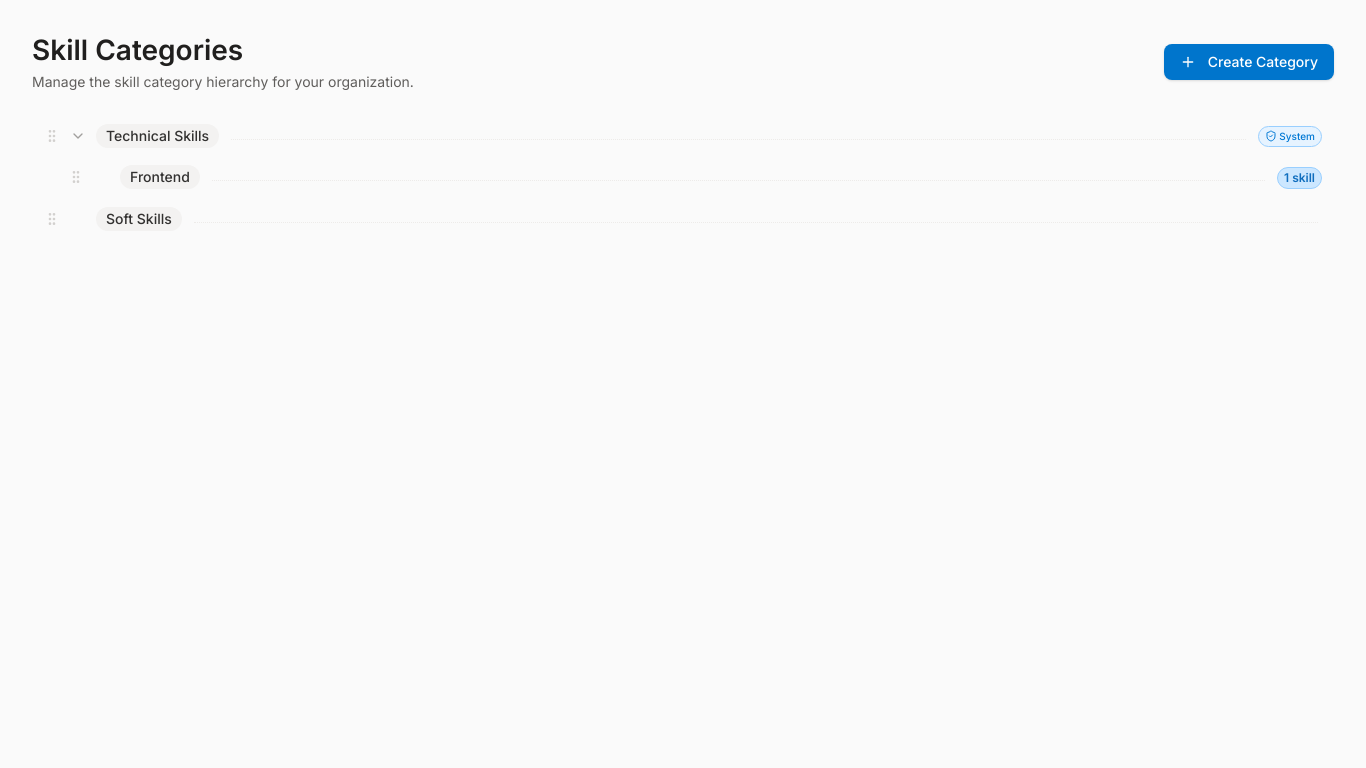
it: SkillCategoryManagementPage › "Create Category" button opens form dialog
# Find the "Create Category" button in actions (not the empty state one)
Click the button "Create Category" at (1249, 62), box x1=1164 y1=44 x2=1334 y2=80
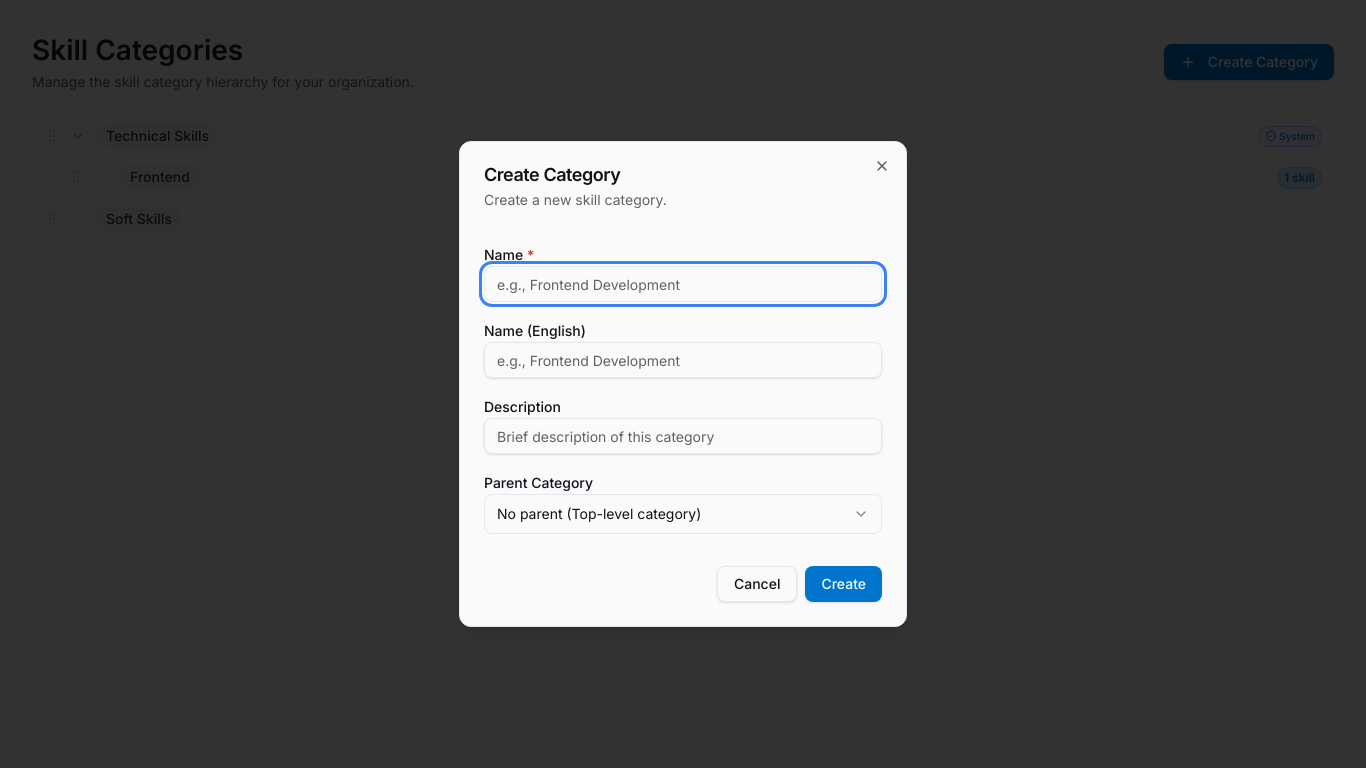
Expected: the text "Create a new skill category." is shown, x1=484 y1=191 x2=667 y2=208
